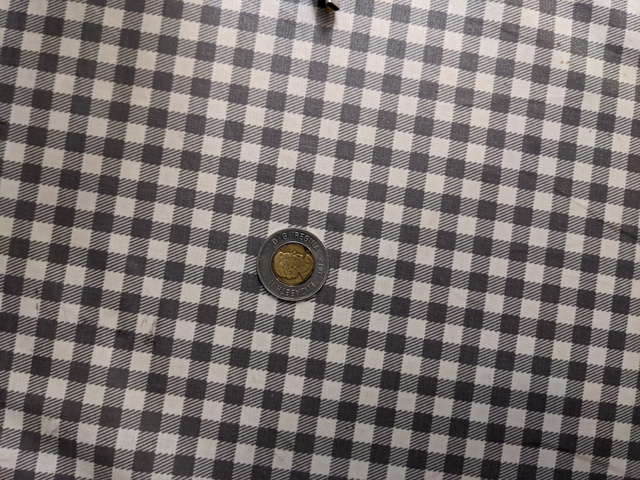twonie: (245, 225, 338, 299)
